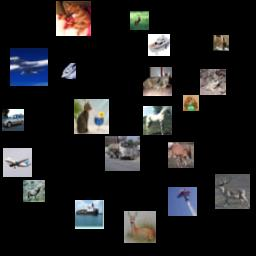airplane: (10, 48, 48, 86), (3, 148, 32, 177), (168, 187, 197, 216)
automobile: (2, 109, 24, 131)
cat: (74, 99, 109, 134), (143, 67, 172, 96), (213, 35, 229, 51)
deer: (215, 174, 250, 209), (124, 211, 156, 243), (168, 142, 194, 168), (23, 180, 45, 202), (130, 11, 149, 30)
dog: (56, 1, 91, 36), (183, 95, 199, 111)
frog: (200, 69, 226, 95)
ship: (75, 200, 104, 229), (148, 34, 170, 56), (60, 63, 76, 79)
truck: (105, 136, 140, 171)
